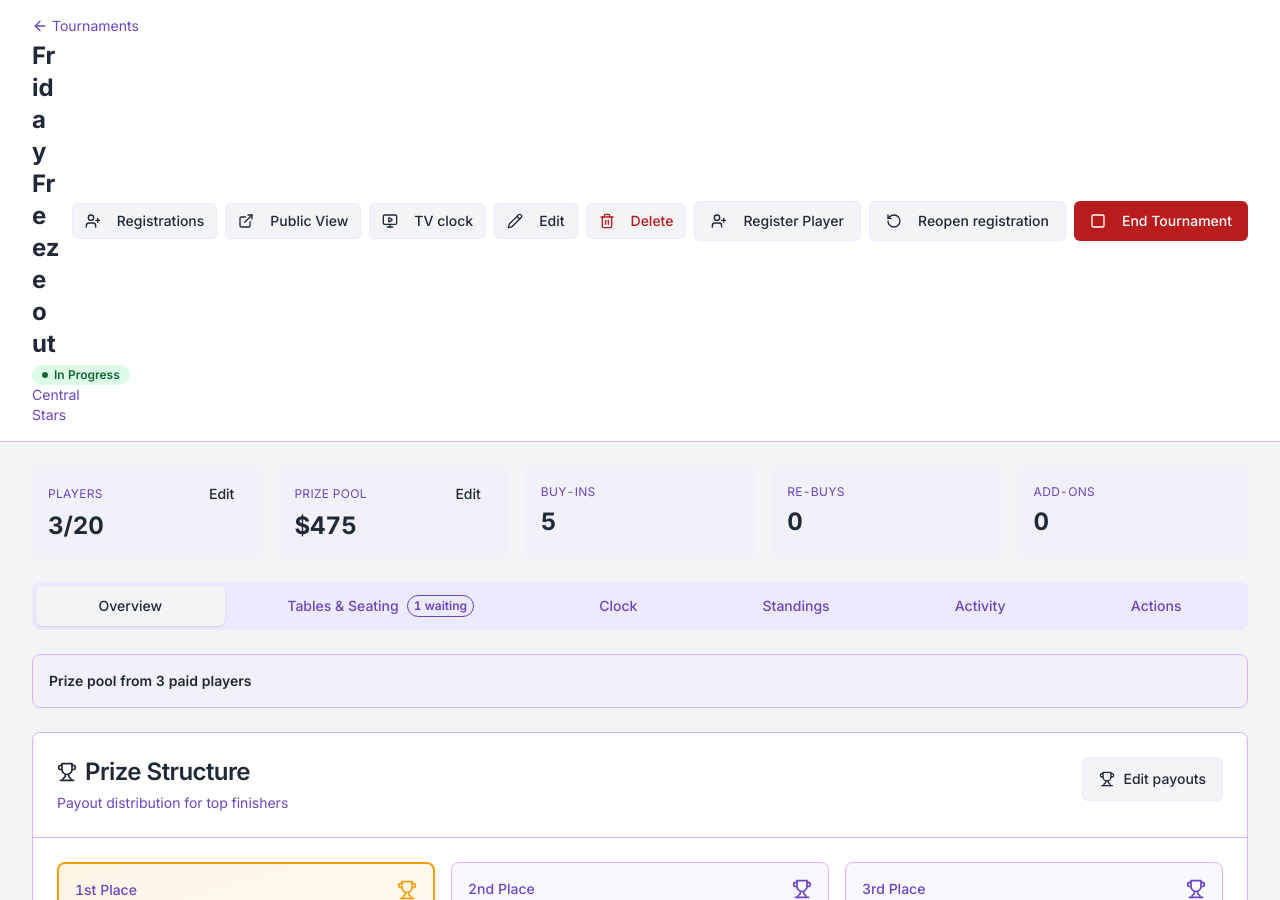
it: TournamentDetails › says a late walk-in is waiting for a seat while the tables are in play, and seats them in one tap (TDN2-WAITING-NOT-FLAGGED)
Click the button with test id "register-player". click: [778, 221]
box: x1=694 y1=201 x2=861 y2=241
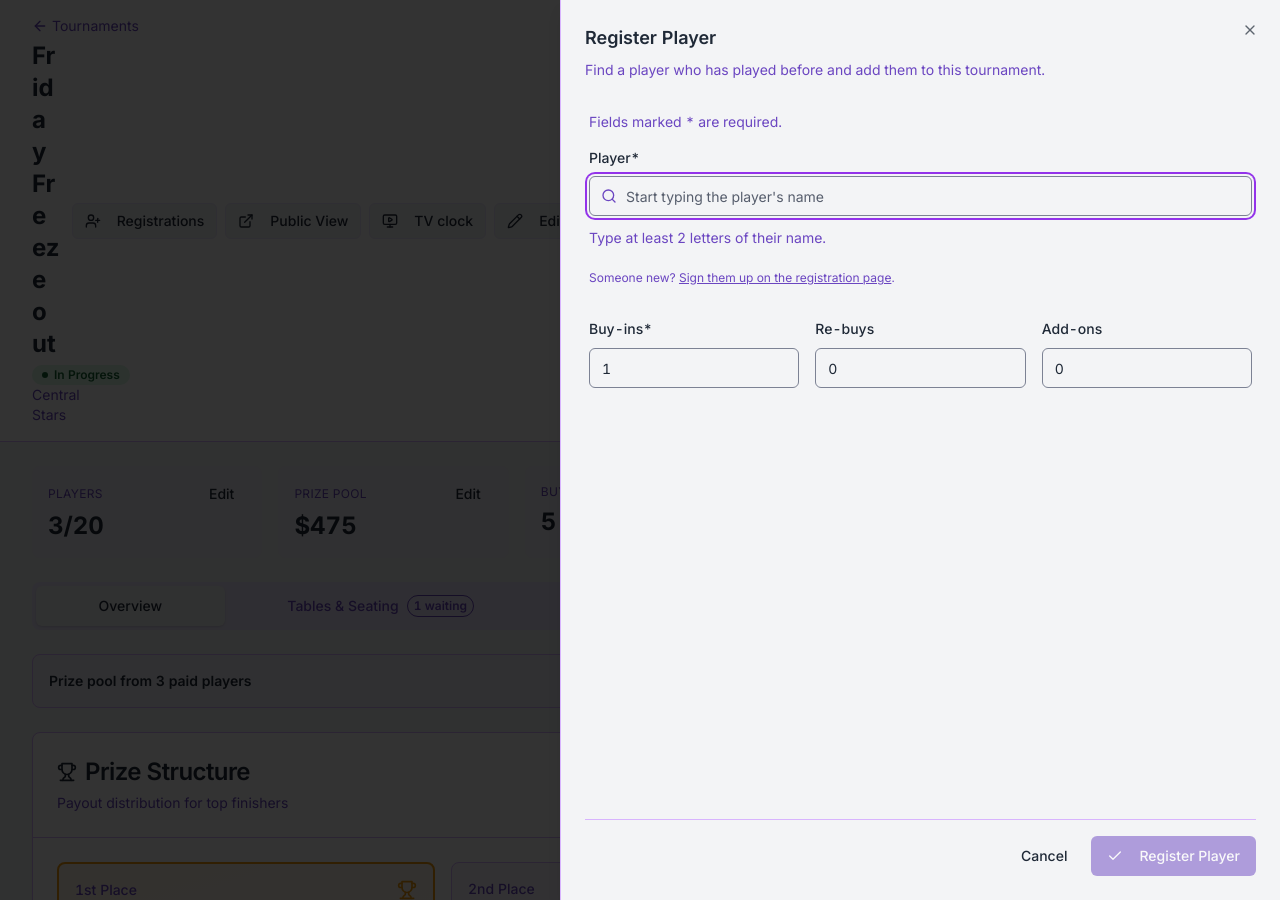
Type "Dee" into the search field labelled "Player". click: [920, 196]
box: x1=589 y1=176 x2=1252 y2=216
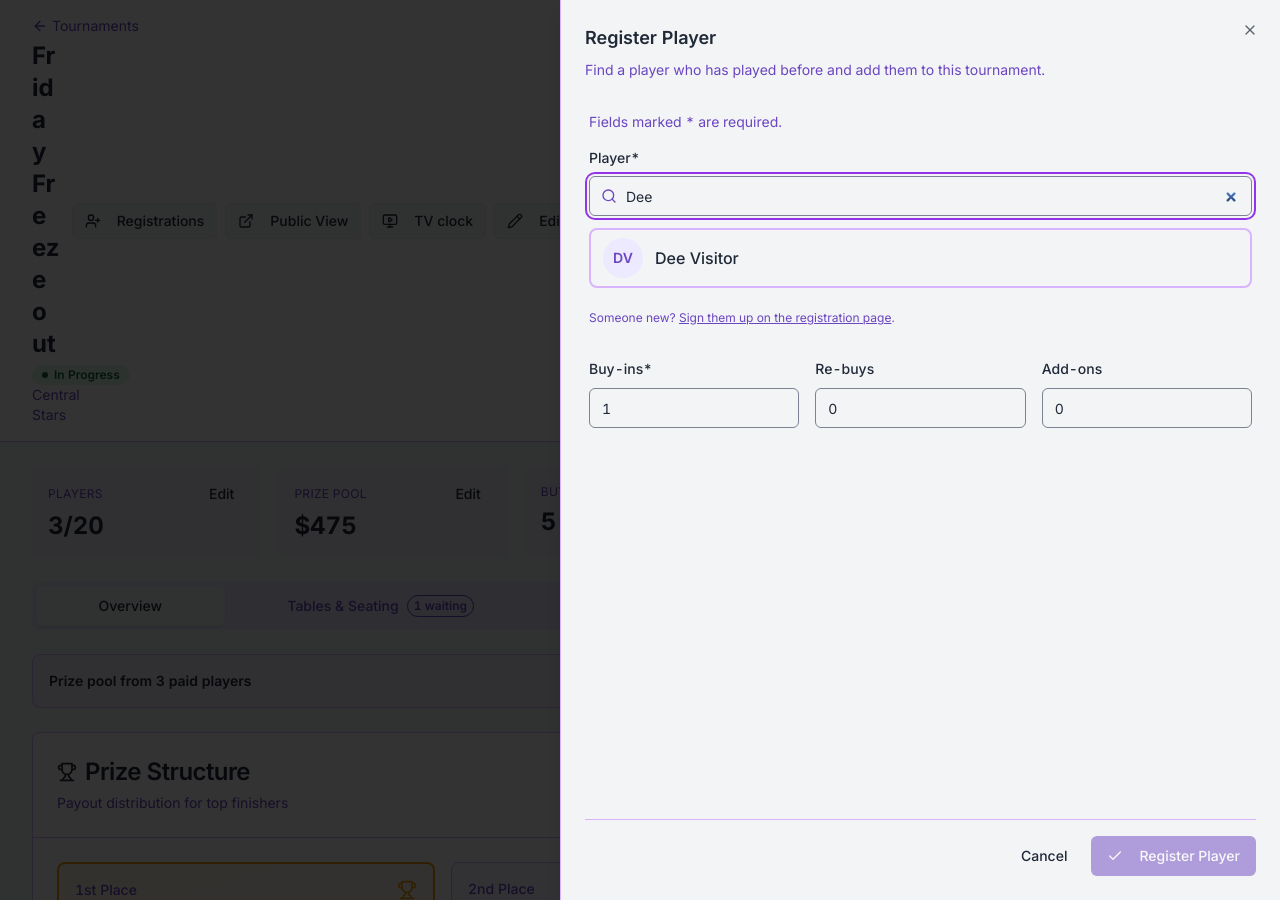
Click the button with test id "player-option-p-dee". click: [623, 258]
box: x1=589 y1=228 x2=1252 y2=288
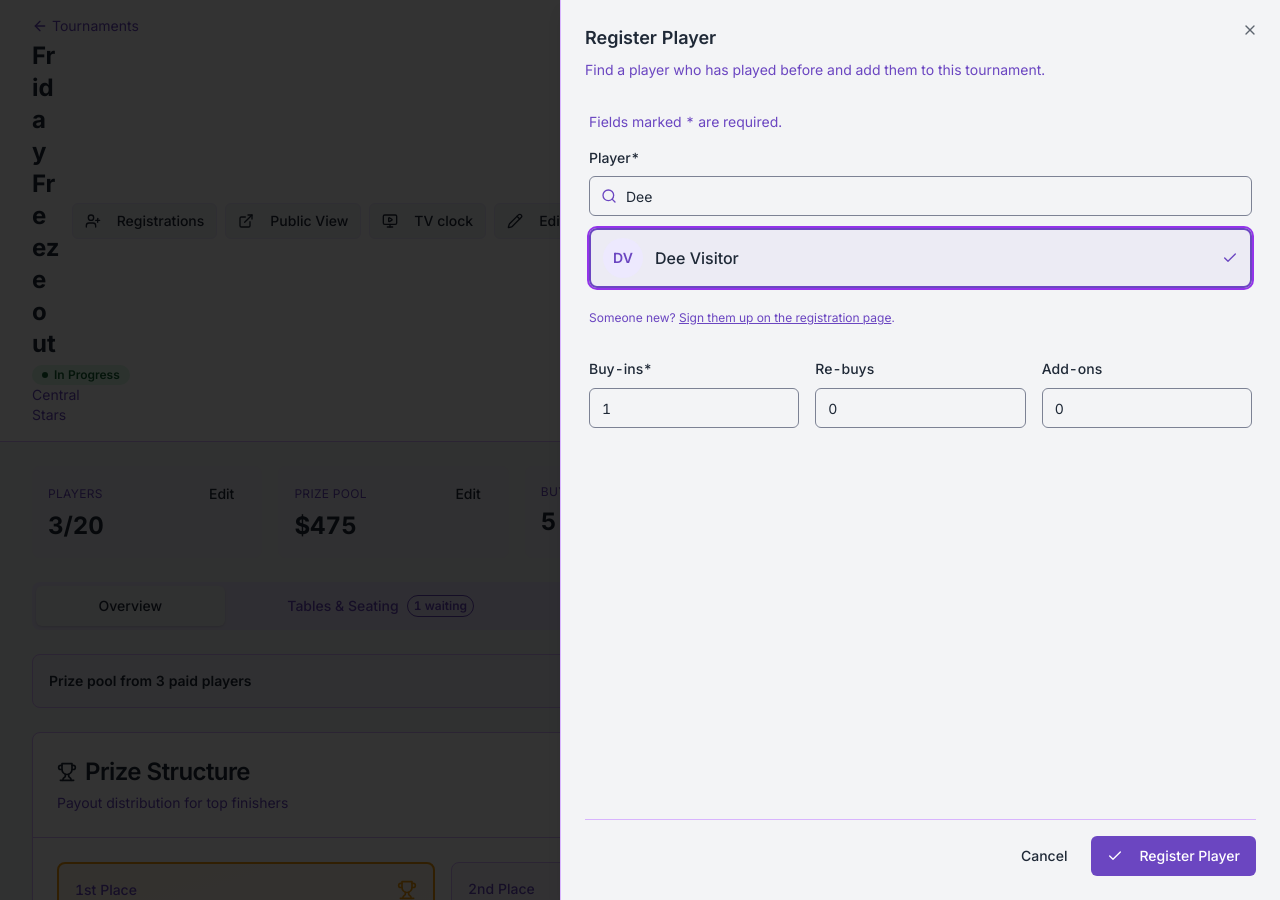
Click the button with test id "register-player-final". click: [1174, 856]
box: x1=1092 y1=836 x2=1256 y2=876
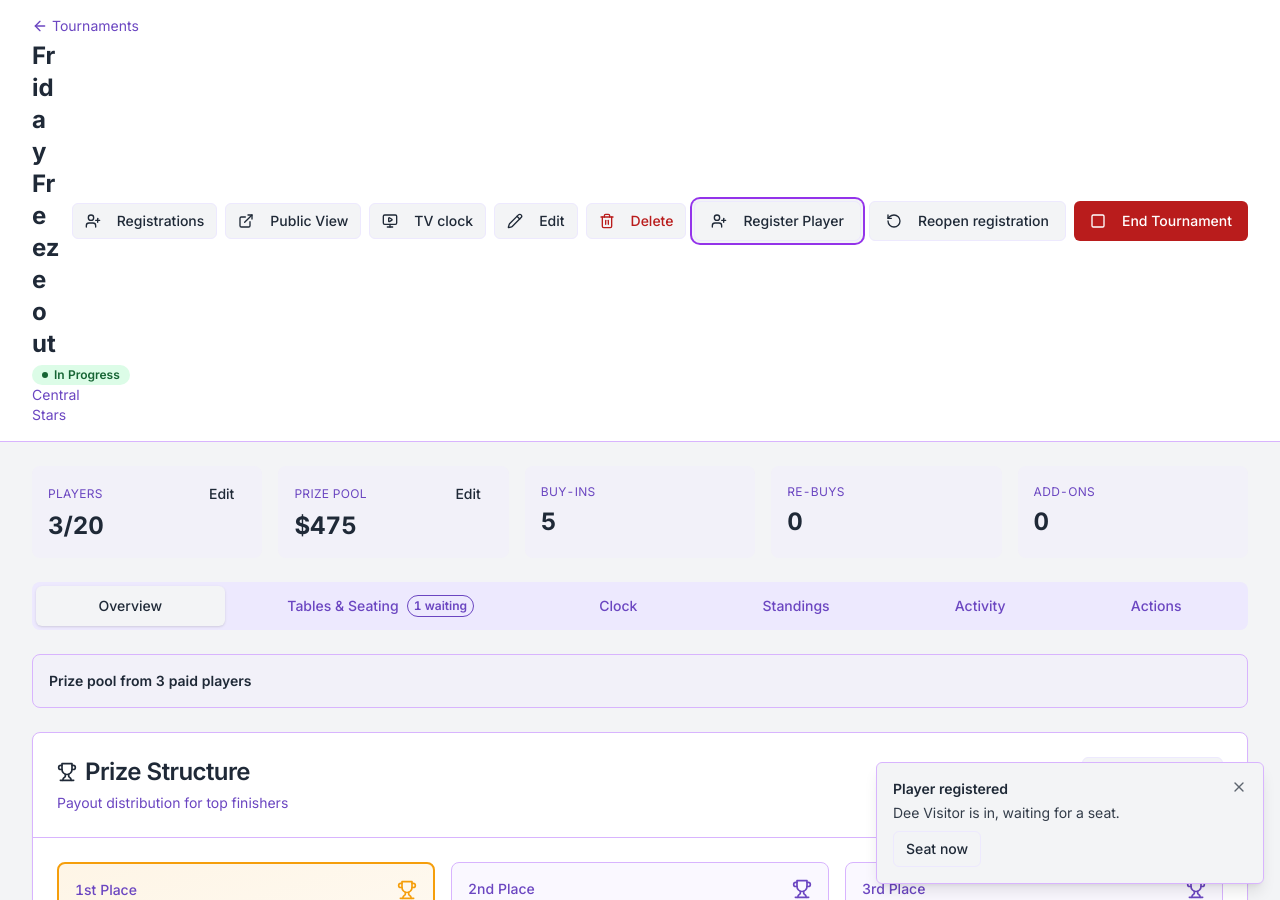
Now the text "Dee Visitor is in, waiting for a seat." is shown, box x1=893 y1=804 x2=1120 y2=821
Click the button "Seat now". click: [937, 849]
box: x1=893 y1=831 x2=981 y2=867
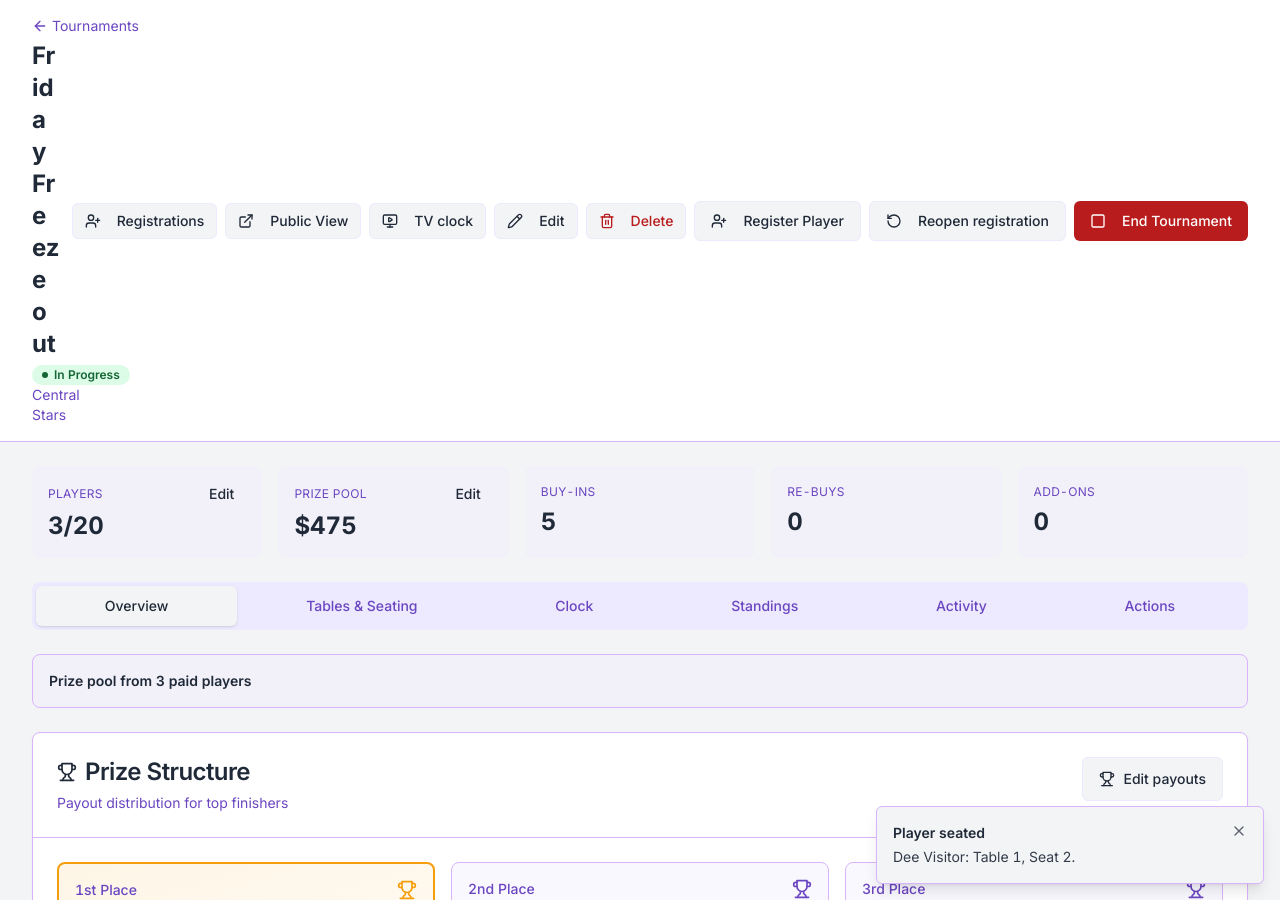
Now the text "Dee Visitor: Table 1, Seat 2." is shown, box x1=893 y1=848 x2=1075 y2=865
